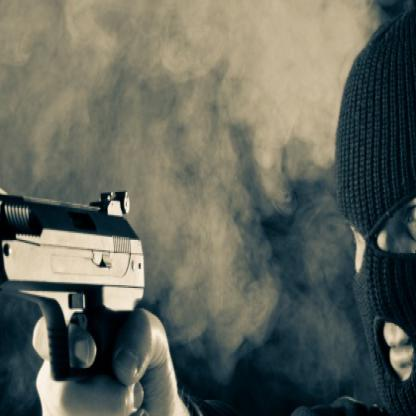gun: (0, 166, 150, 385)
